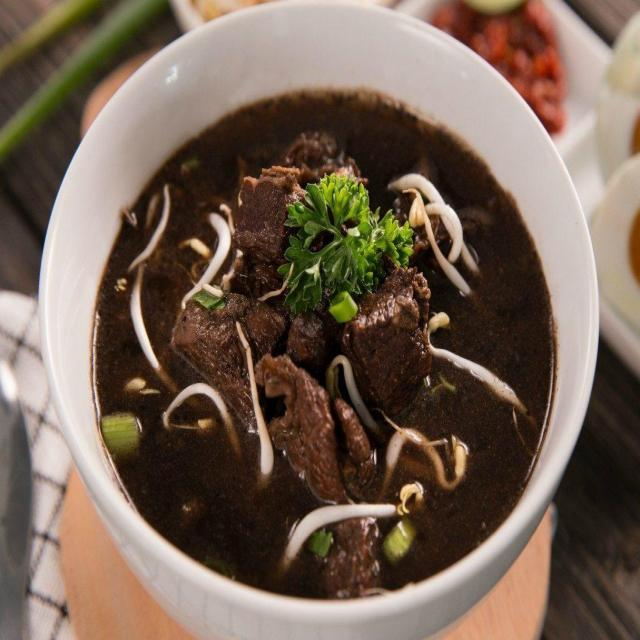Rawon: (71, 91, 559, 580)
